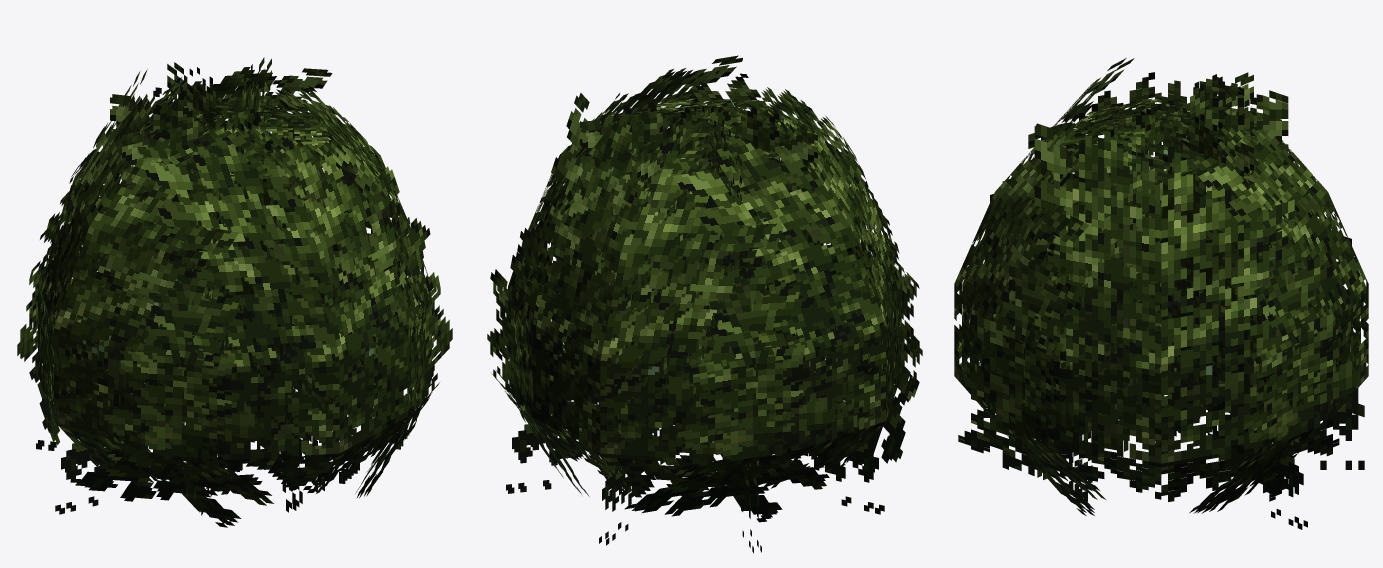
File: bush03_summer.glb
3 renders of one model, left to right at view 1: azimuth 30°, elevation 25°; view 2: azimuth 150°, elevation 25°; view 3: azimuth 270°, elevation 25°, orthographic.
Parts seen in each view (by area): view 1: bush03; view 2: bush03; view 3: bush03.
Part boxes in pixels (left/top/right/bottom): bush03: left=17, top=57, right=452, bottom=527; bush03: left=487, top=55, right=922, bottom=553; bush03: left=954, top=58, right=1368, bottom=529.
Size of the model in its own units: 1.53 by 1.5 by 1.53.
Materials: 1 (1 with a texture image).
